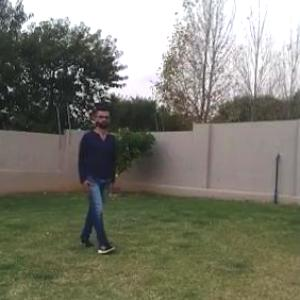follow: (77, 104, 112, 244)
